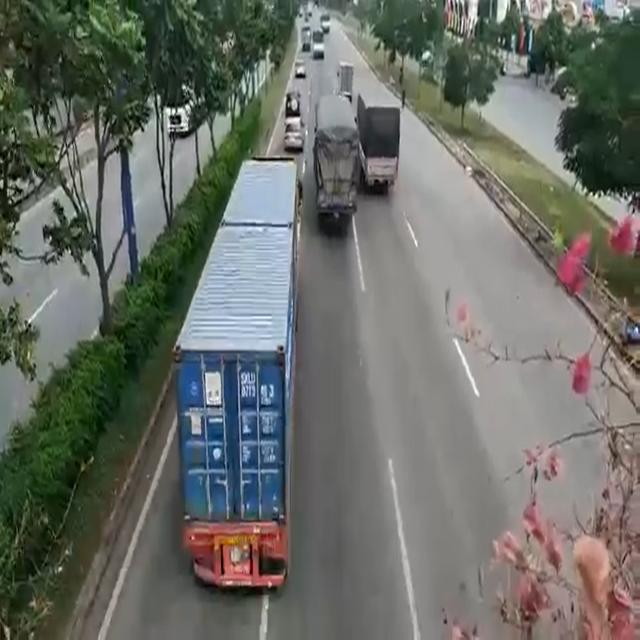car: (286, 114, 305, 150), (285, 89, 300, 111)
truck: (176, 157, 302, 588), (344, 62, 402, 185), (319, 96, 355, 228)
